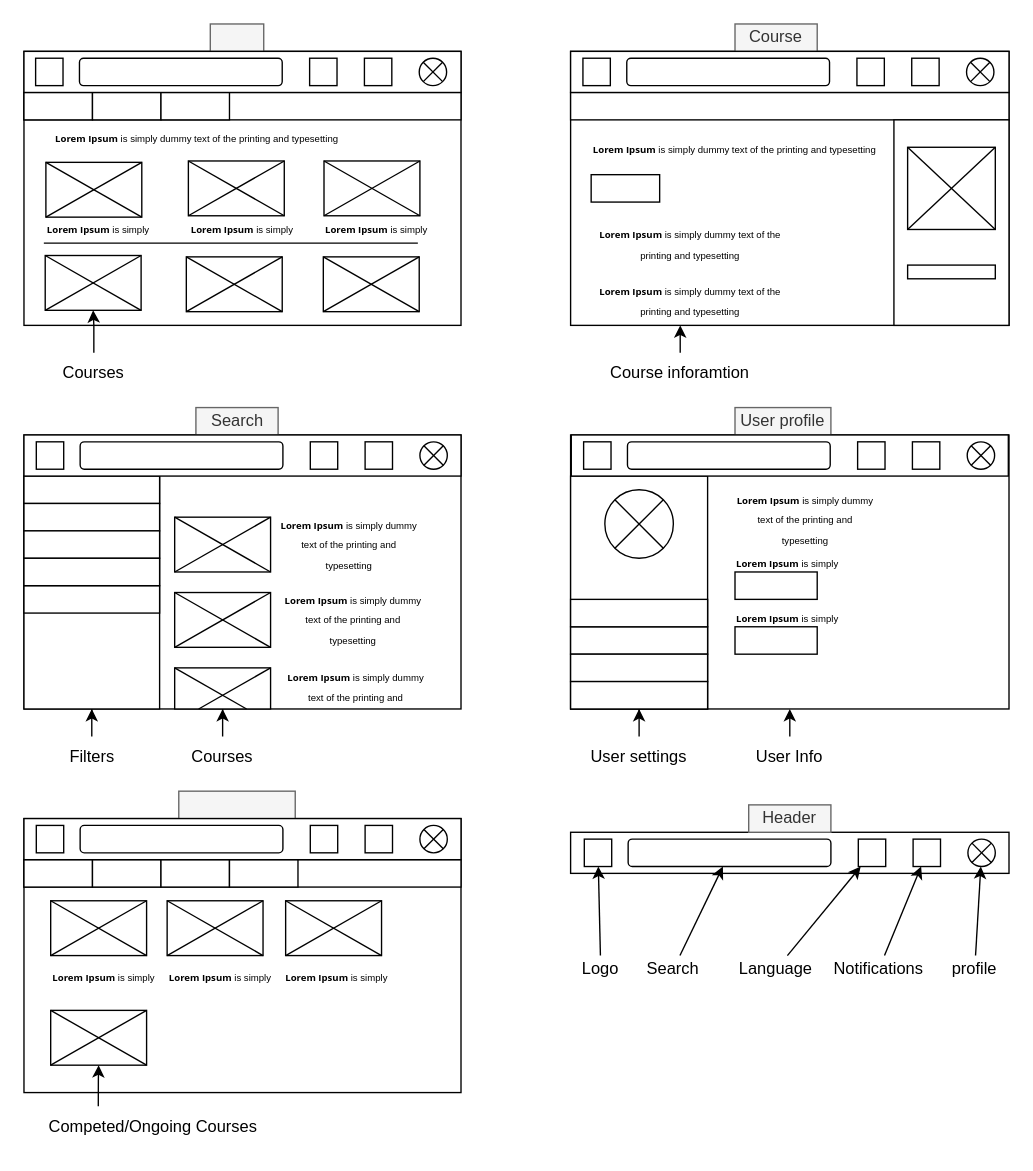
This 1033x1171 diagram has some shape labels left out. Here are the shapes that lost their labels. From the top down, the centre of each, then its label:
point 236,37: Main
point 236,804: My education
